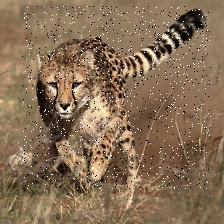Cheetha: (23, 7, 212, 190)
